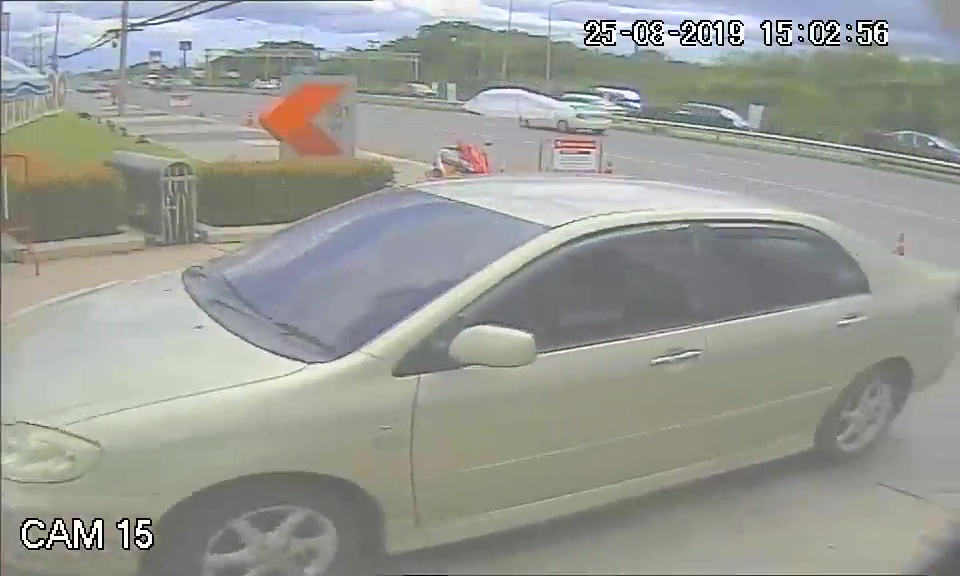sedan: (7, 168, 951, 566)
